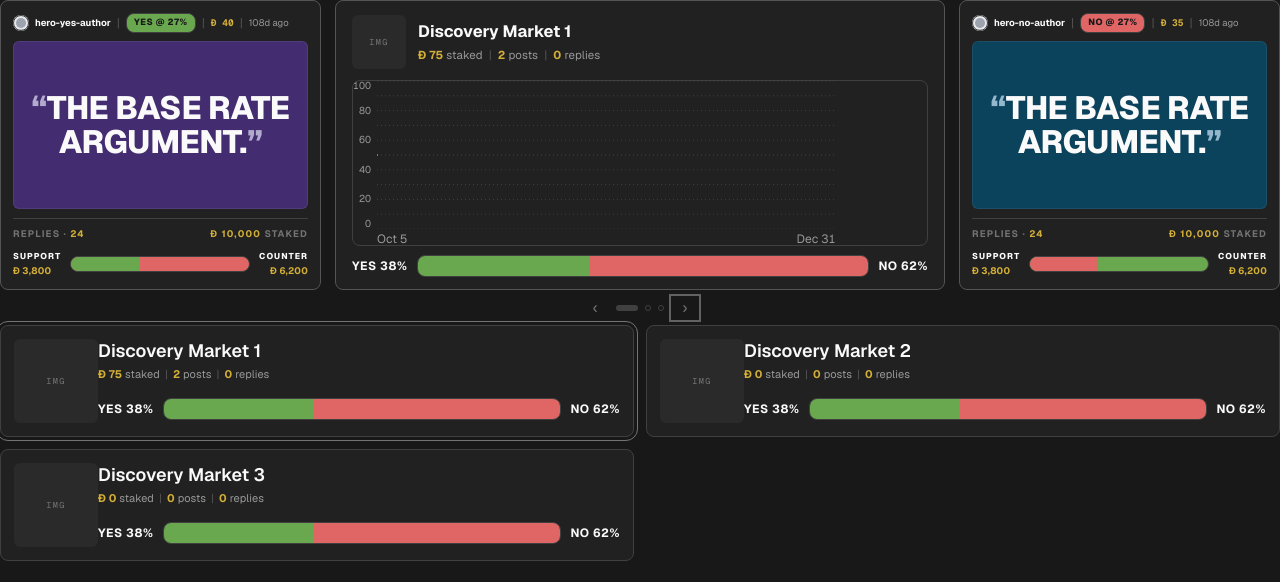
UI.A4 §5 — DiscoveryCarousel (canon §5 motion) › render::cs14-an-arrow-rotation-hands-focus-to-the-hero-market-link
Press ArrowRight in the button named "Next market", box [671,296,699,320]
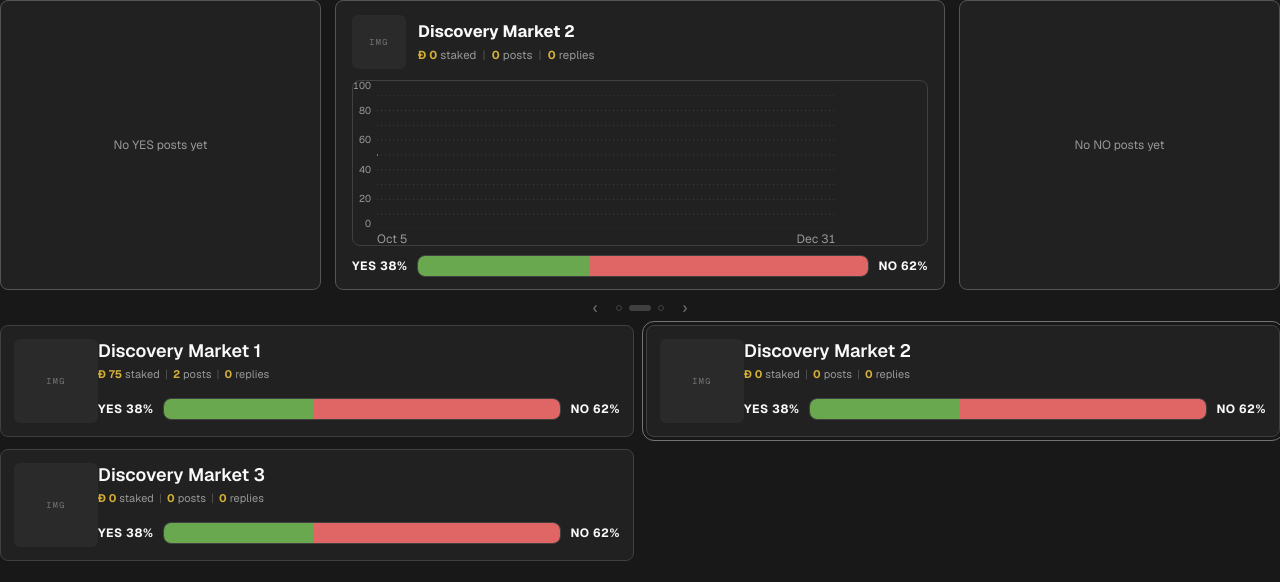
Expected: the link that starts with "IMG" has attribute href="/m/fixture-market-2", [335,0,945,290]
Press ArrowRight
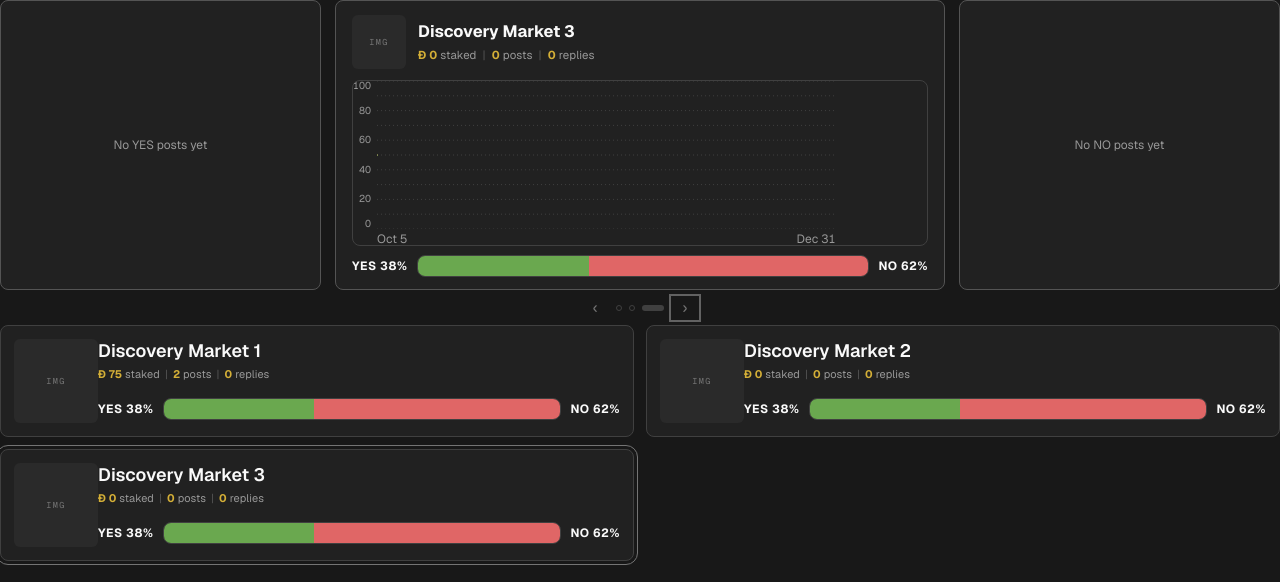
Expected: the link that starts with "IMG" has attribute href="/m/fixture-market-3", [335,0,945,290]
Press Enter in the button named "Next market", box [671,296,699,320]
Click the button named "Next market".
click(685, 308)  # box [671,296,699,320]
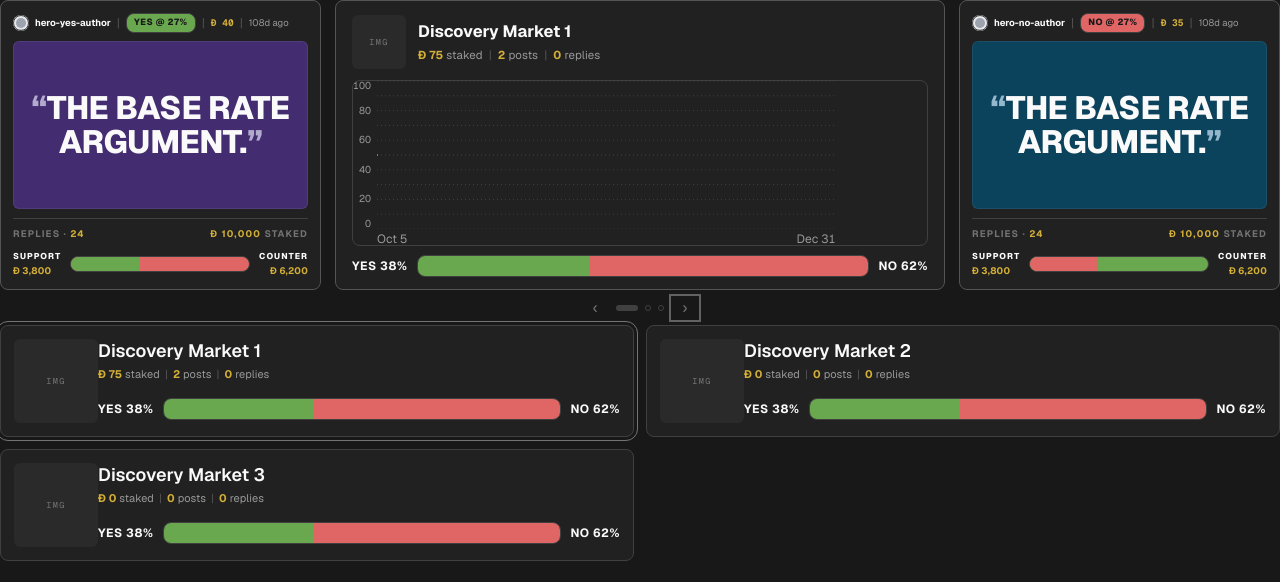
Expected: the heading "Discovery Market 1" next to "hero-no-author" is shown, [418,20,571,42]
